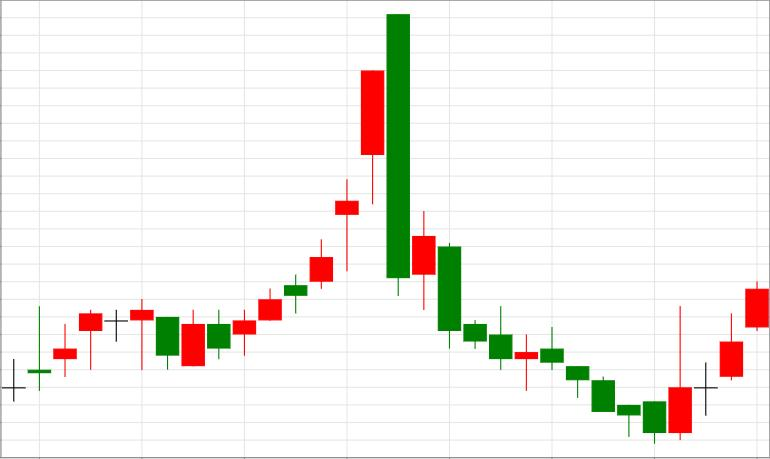bearish_engulfing_fall: (233, 14, 409, 357)
inverse_hammer_rise: (438, 243, 692, 444)
